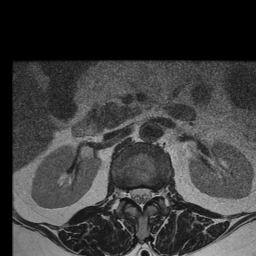CCS_normal: (137, 180, 145, 216)
LFS_stenosis: (152, 186, 159, 203)
LLS_normal: (145, 181, 152, 206)
RFS_normal: (122, 183, 130, 203)
RLS_normal: (130, 184, 137, 208)
